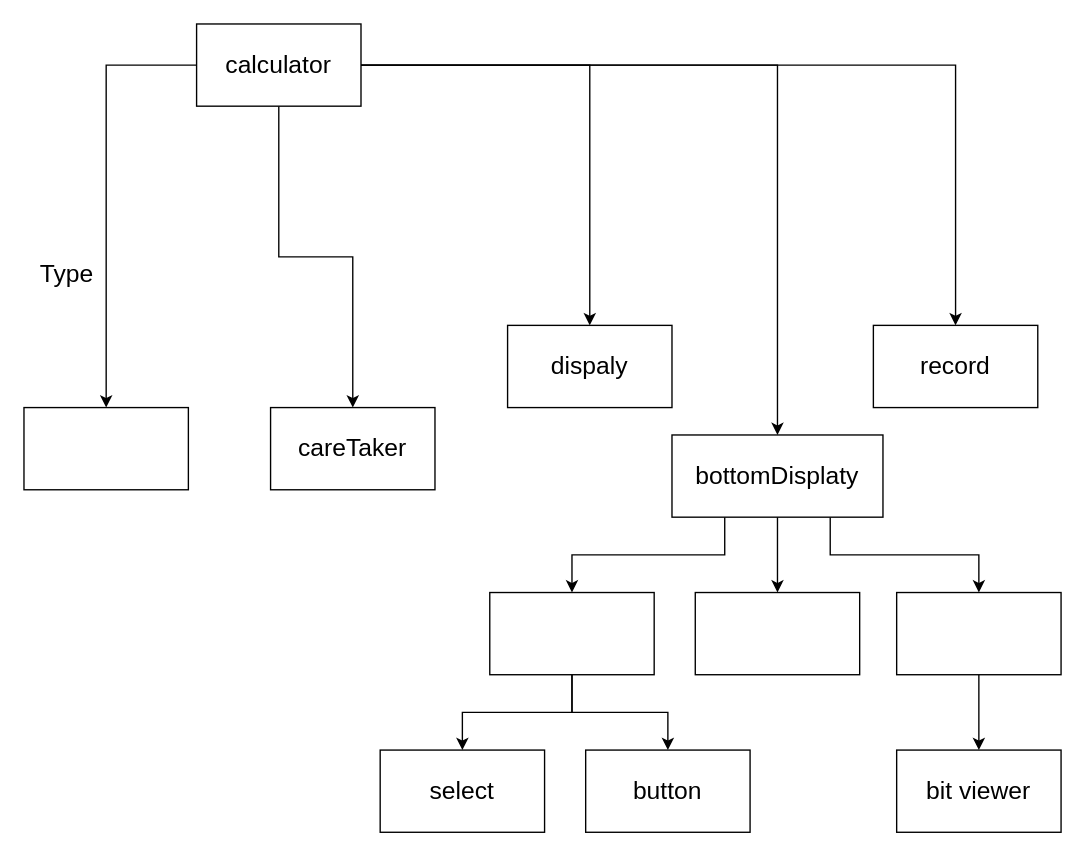
This 1085x856 diagram has some shape labels left out. Each missing label, with the centre of its shape:
BIN view: the point at 978,633
DEC view: the point at 571,633
history: the point at 777,633
operator: the point at 105,448
